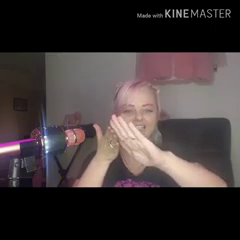H: (90, 113, 159, 176)
